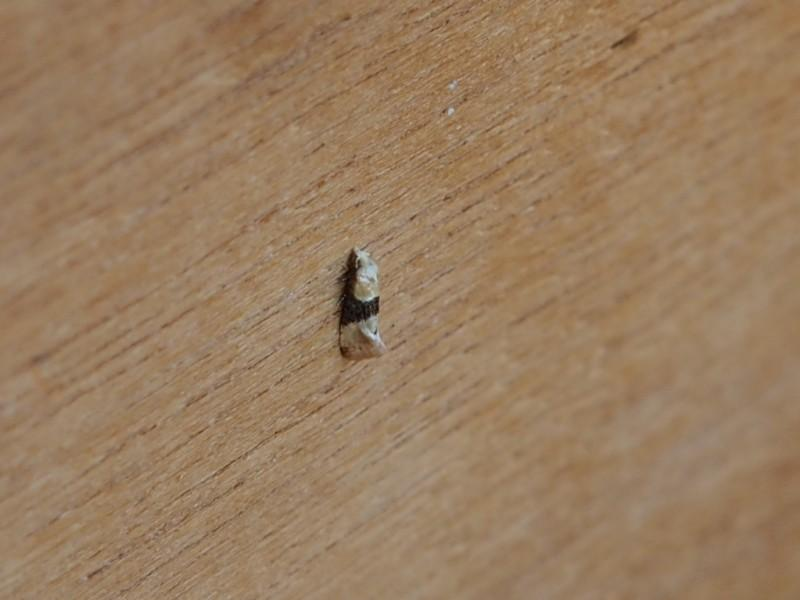Eupoecilia Ambiguella: (330, 243, 388, 362)
